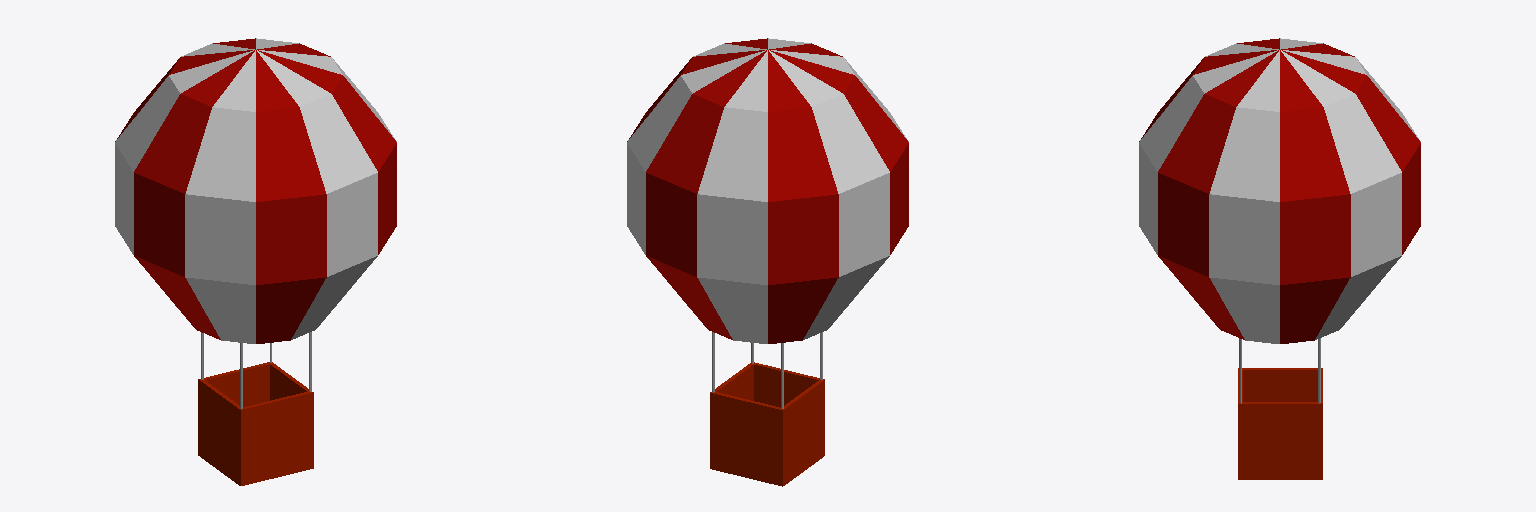
Rendered from balloon.obj.
3 renders of one model, left to right at view 1: azimuth 30°, elevation 25°; view 2: azimuth 150°, elevation 25°; view 3: azimuth 270°, elevation 25°, orthographic.
Parts seen in each view (by area): view 1: Sphere.001_Sphere.003, Cube.001_Cube.004, Cylinder.001_Cylinder.008; view 2: Sphere.001_Sphere.003, Cube.001_Cube.004, Cylinder.001_Cylinder.008; view 3: Sphere.001_Sphere.003, Cube.001_Cube.004.
Part boxes in pixels (bbox=[...]): Sphere.001_Sphere.003: bbox=[115, 38, 396, 343]; Cube.001_Cube.004: bbox=[198, 362, 313, 485]; Cylinder.001_Cylinder.008: bbox=[201, 332, 311, 408]; Sphere.001_Sphere.003: bbox=[627, 38, 908, 343]; Cube.001_Cube.004: bbox=[710, 362, 824, 486]; Cylinder.001_Cylinder.008: bbox=[712, 332, 822, 408]; Sphere.001_Sphere.003: bbox=[1139, 38, 1420, 343]; Cube.001_Cube.004: bbox=[1238, 368, 1322, 479].
Size of the model in its own units: 2.39 by 3.86 by 2.39.